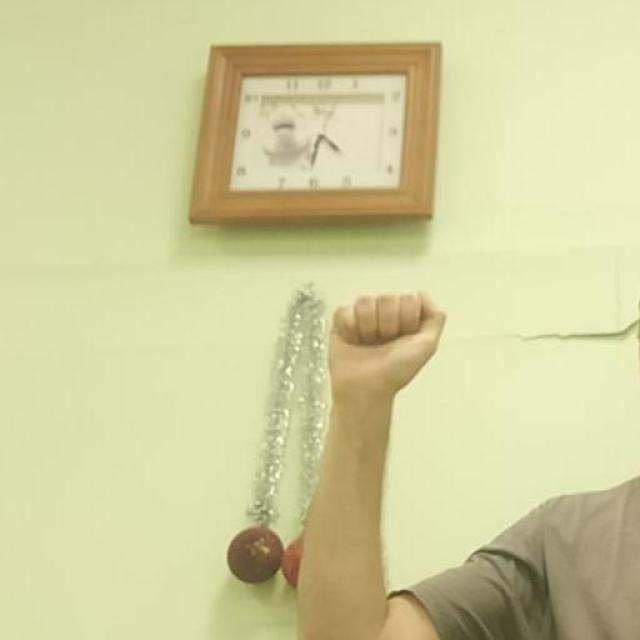hand: (326, 288, 446, 402)
